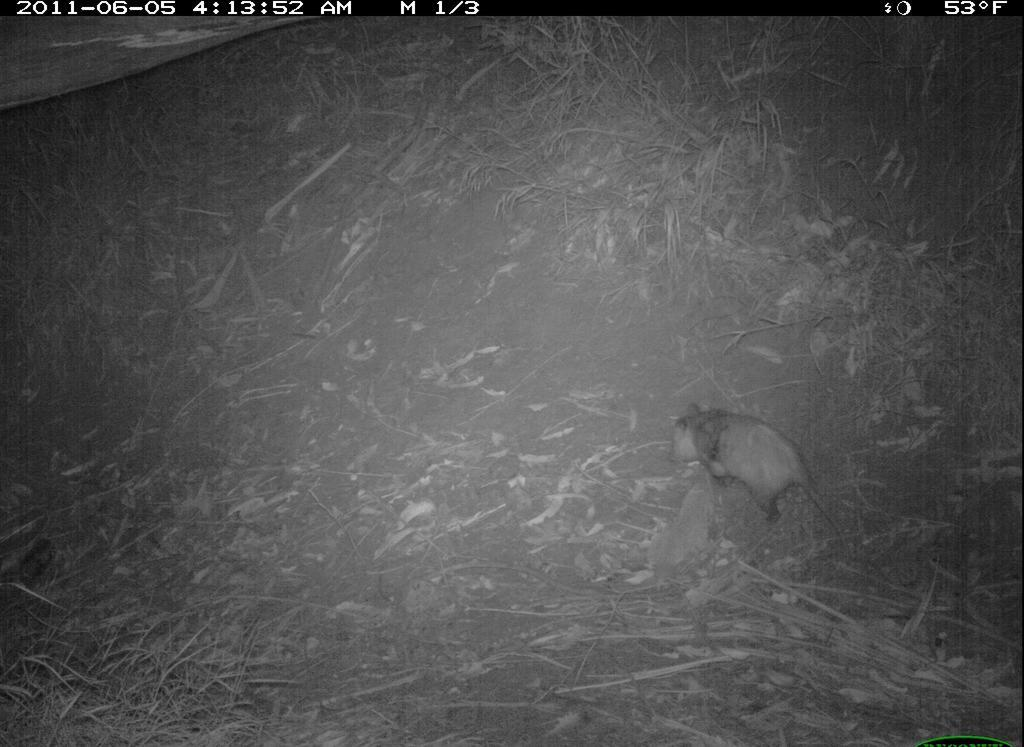opossum: (666, 396, 854, 557)
